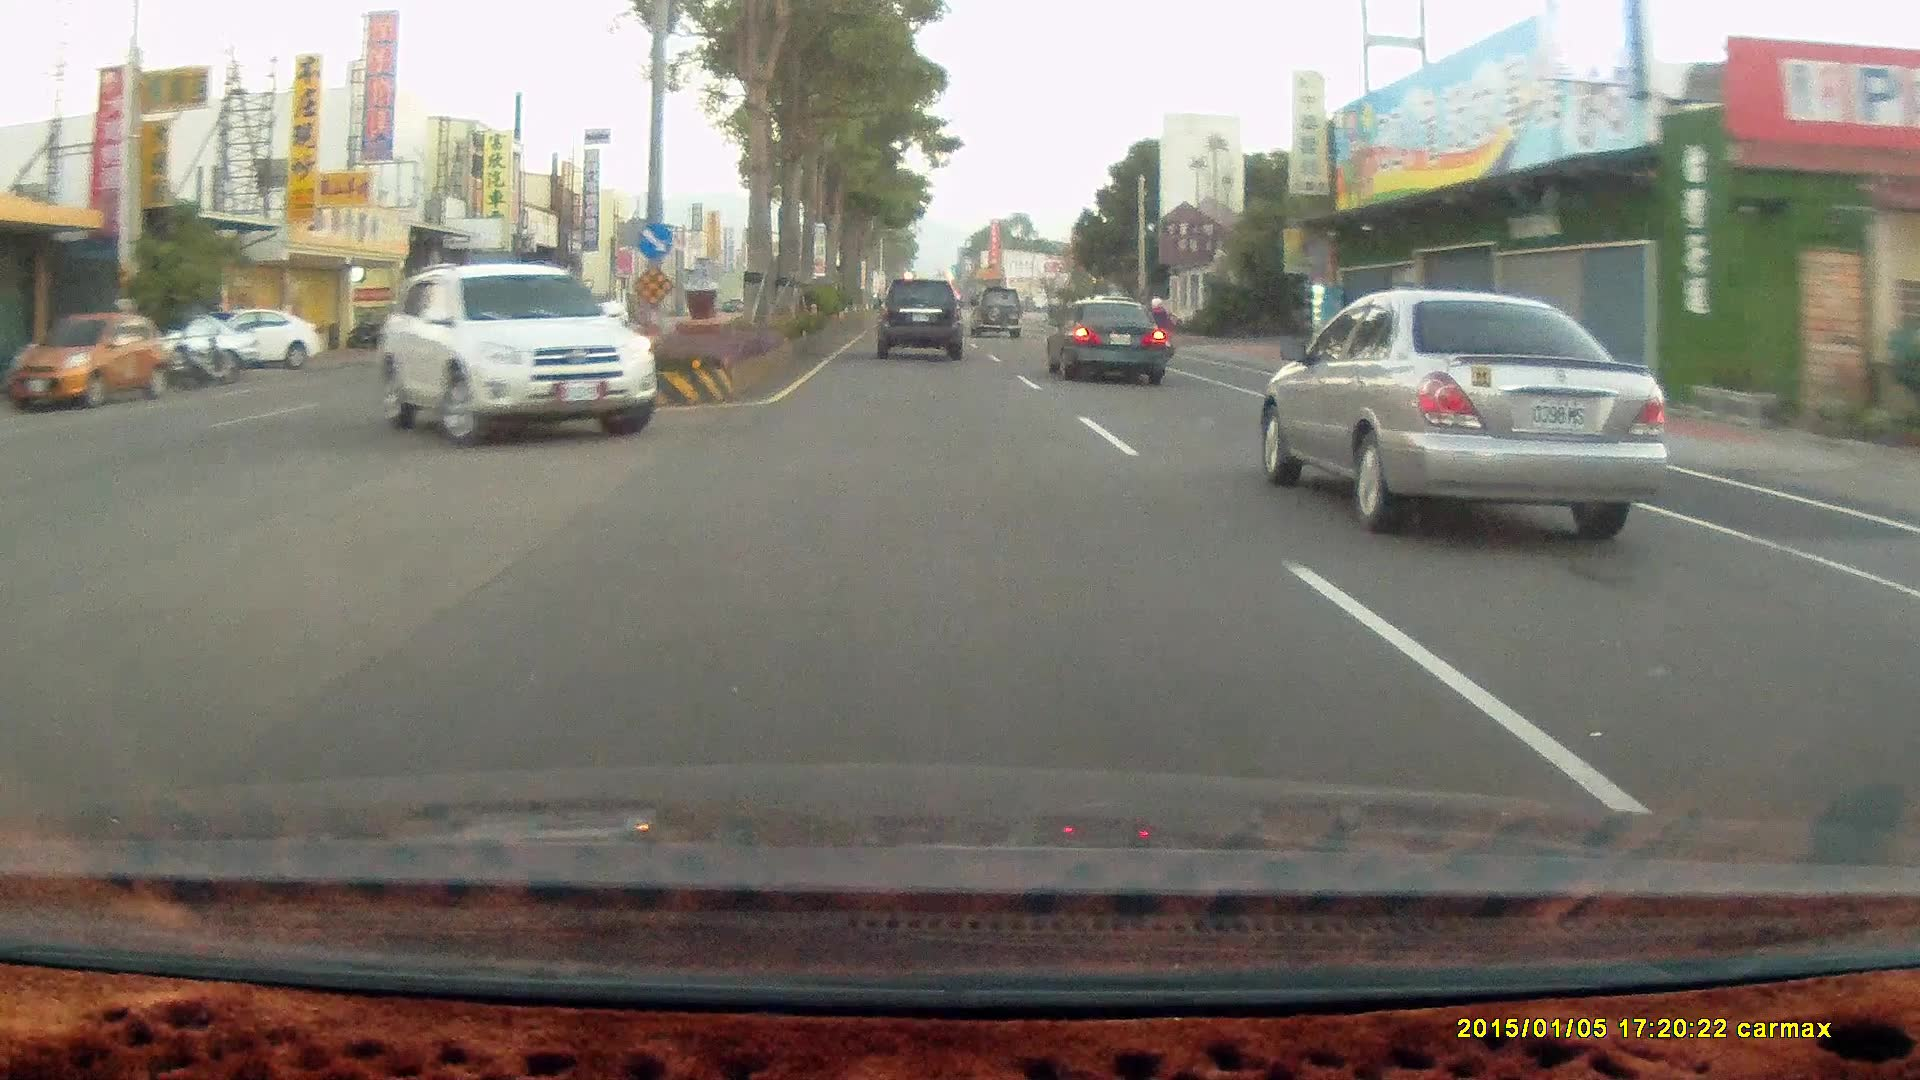vehicle: (1254, 287, 1677, 549), (375, 257, 655, 444), (382, 257, 654, 447), (4, 311, 164, 411), (12, 310, 167, 407), (1044, 295, 1166, 384), (1054, 297, 1174, 382), (178, 303, 323, 369), (186, 302, 326, 368), (880, 277, 969, 363), (876, 277, 963, 357), (971, 284, 1026, 340), (969, 286, 1023, 339)
